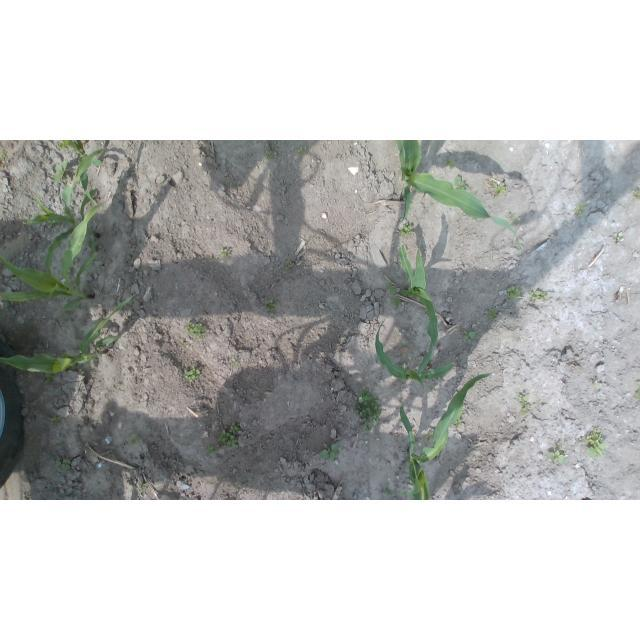Maize: (397, 140, 524, 253), (395, 372, 495, 500), (0, 200, 104, 312), (0, 294, 136, 374), (24, 147, 105, 273), (375, 318, 456, 390), (398, 245, 438, 375), (62, 140, 103, 202)
Weeds: (356, 389, 382, 432), (580, 426, 604, 458), (217, 422, 241, 448), (386, 285, 412, 308), (546, 443, 566, 463), (319, 443, 340, 462), (54, 160, 70, 182), (184, 322, 206, 338), (517, 393, 532, 416), (184, 365, 201, 382), (529, 289, 548, 303), (56, 457, 71, 473), (507, 285, 522, 300), (455, 177, 469, 192), (493, 183, 506, 198), (398, 224, 413, 237), (264, 298, 277, 313), (575, 202, 588, 216), (464, 330, 477, 343), (446, 158, 457, 170), (135, 483, 147, 494), (283, 261, 293, 274), (487, 309, 498, 320), (59, 141, 70, 152), (129, 436, 140, 447), (43, 372, 53, 384), (218, 248, 230, 258), (634, 380, 640, 398), (426, 432, 435, 444), (296, 146, 308, 155), (384, 484, 393, 496), (50, 414, 63, 422), (205, 445, 215, 455), (266, 150, 277, 159), (48, 221, 61, 228), (0, 149, 8, 160), (633, 190, 640, 200), (455, 418, 462, 427), (53, 440, 62, 447), (231, 358, 237, 368), (178, 339, 186, 346), (509, 213, 516, 220), (79, 369, 86, 376), (60, 317, 68, 323), (515, 218, 521, 225), (429, 385, 436, 391), (1, 163, 6, 169), (236, 484, 241, 490)
